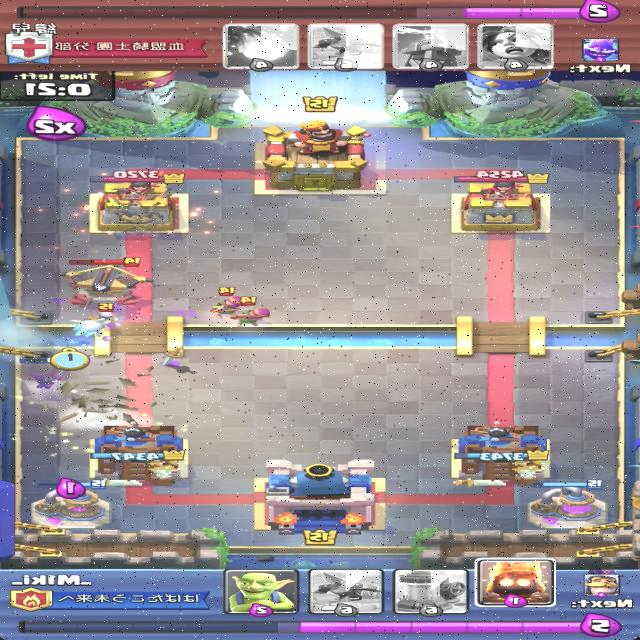Enemy-Archer: (228, 295, 272, 327), (208, 287, 247, 322)
Enemy-Skeleton: (92, 304, 120, 328)
Enemy-XBow: (56, 257, 156, 306)
Player-ElixirPump: (526, 479, 610, 531), (28, 479, 113, 530)
Player-Musketeer: (20, 353, 70, 390)
